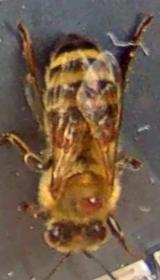varroa_mite: (78, 186, 114, 215), (46, 118, 76, 151), (93, 120, 120, 146)
